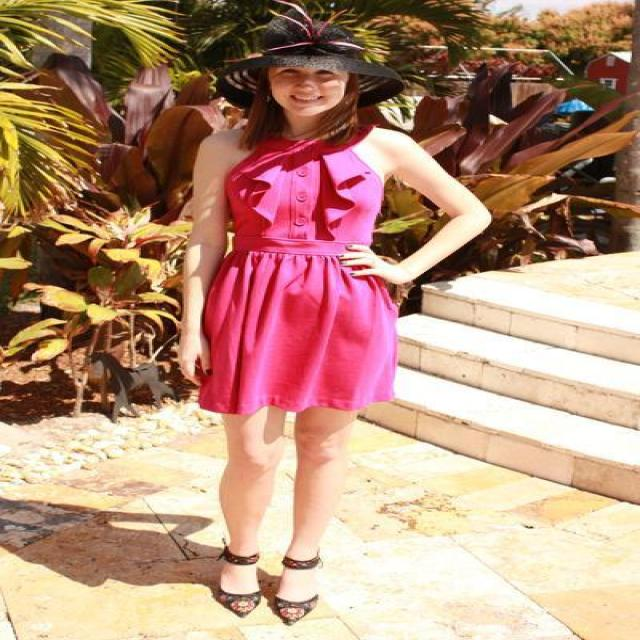dress: (194, 135, 422, 414)
hat: (226, 22, 404, 107)
shoe: (216, 550, 333, 621)
